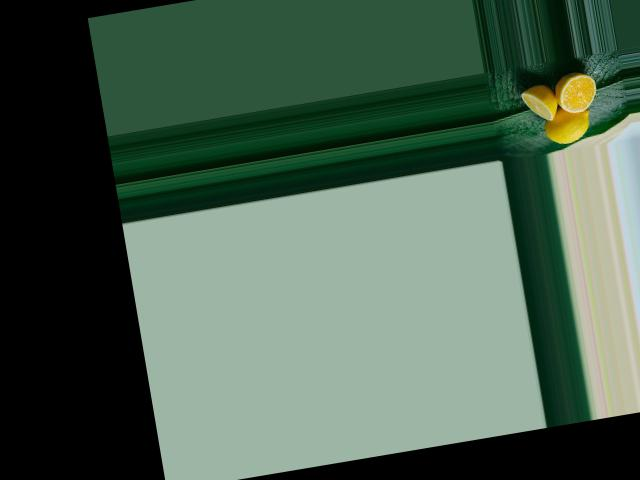lemon: (541, 100, 600, 146)
